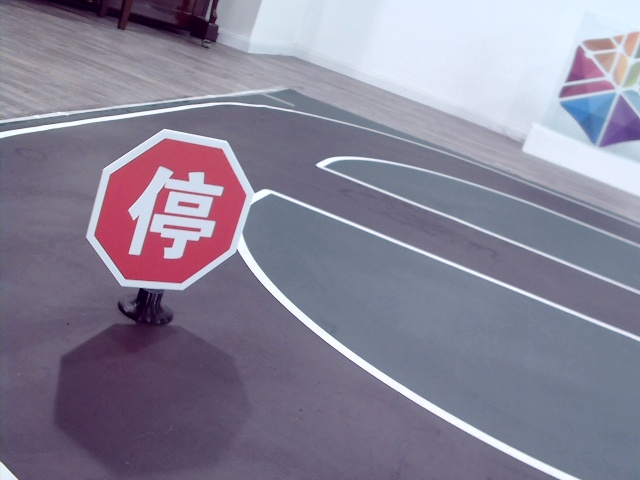stop: (127, 161, 220, 260)
